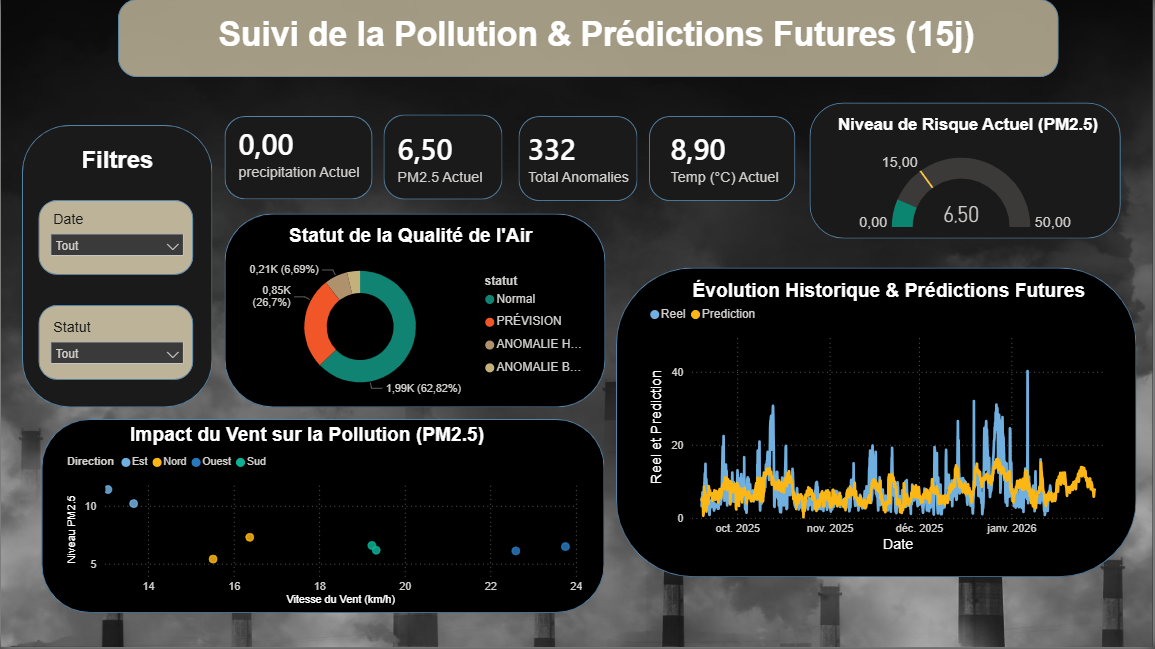

The dashboard page shown, as its layout file describes it:
{"tool":"powerbi","page":{"name":"Page 1","canvas":[1280,720],"ordinal":0},"visuals":[{"type":"image","box":[0,0,1279.4,720],"z":0},{"type":"shape","box":[130.4,0,1045,86.9],"z":1000},{"type":"shape","box":[897.6,115.3,345.8,151.2],"z":2000},{"type":"shape","box":[22.7,139.8,211.7,313.7],"z":3000},{"type":"shape","box":[41.6,223,172,83.2],"z":4000},{"type":"shape","box":[574.5,130.4,132.3,94.5],"z":5000},{"type":"shape","box":[720,130.4,162.5,94.5],"z":6000},{"type":"shape","box":[425.2,128.5,132.3,94.5],"z":7000},{"type":"textbox","box":[206.7,11.7,910,86.7],"z":8000},{"type":"cardVisual","fields":{"Data":["Sum(v_gold_pollution.y)"]},"box":[412,115.3,185.2,120.9],"z":9000},{"type":"cardVisual","fields":{"Data":["CountNonNull(v_gold_pollution.statut)"]},"box":[557.5,115.3,185.2,120.9],"z":10000},{"type":"cardVisual","fields":{"Data":["Sum(v_gold_pollution.temperature)"]},"box":[715,118.3,183.3,115],"z":11000},{"type":"shape","box":[684.1,298.6,578.3,343.9],"z":12000},{"type":"lineChart","fields":{"Y":["Sum(v_gold_pollution.y)","Sum(v_gold_pollution.yhat)"],"Category":["v_gold_pollution.ds"]},"box":[714.3,330.7,532.9,289.1],"z":13000},{"type":"slicer","fields":{"Values":["v_gold_pollution.ds.Variation.Hiérarchie de dates.Année","v_gold_pollution.ds.Variation.Hiérarchie de dates.Mois","v_gold_pollution.ds.Variation.Hiérarchie de dates.Jour"]},"box":[45.4,230.6,168.2,69.9],"z":14000},{"type":"textbox","box":[35.9,158.7,185.2,64.3],"z":15000},{"type":"shape","box":[45.4,466.8,625.5,215.4],"z":16000},{"type":"gauge","fields":{"Y":["Sum(v_gold_pollution.y)"]},"box":[943,156.9,255.1,109.6],"z":17000},{"type":"textbox","box":[925,123.3,336.7,33.3],"z":18000},{"type":"shape","box":[247.6,238.1,423.3,215.4],"z":19000},{"type":"scatterChart","fields":{"X":["Avg(v_gold_pollution.vent_vitesse)"],"Series":["v_gold_pollution.Direction_Texte"],"Category":["v_gold_pollution.ds.Variation.Hiérarchie de dates.Année","v_gold_pollution.ds.Variation.Hiérarchie de dates.Mois","v_gold_pollution.ds.Variation.Hiérarchie de dates.Jour"],"Y":["Avg(v_gold_pollution.Pollution_Finale)"]},"box":[68,495.1,582.1,183.3],"z":20000},{"type":"shape","box":[41.6,340.2,172,83.2],"z":21000},{"type":"slicer","fields":{"Values":["v_gold_pollution.statut"]},"box":[45.4,349.6,168.2,69.9],"z":22000},{"type":"donutChart","fields":{"Category":["v_gold_pollution.statut"],"Y":["CountNonNull(v_gold_pollution.statut)"]},"box":[255.1,275.9,406.3,173.9],"z":23000},{"type":"shape","box":[247.6,130.4,164.4,92.6],"z":24000},{"type":"cardVisual","fields":{"Data":["Avg(v_gold_pollution.precipitation)"]},"box":[234.3,109.6,232.4,120.9],"z":25000},{"type":"textbox","box":[315.6,245.7,300.5,39.7],"z":26000},{"type":"textbox","box":[138,466.8,515.9,39.7],"z":27000},{"type":"textbox","box":[763.5,306.1,459.2,49.1],"z":28000}]}

Visuals, with their boxes in screenshot pixels (x1, y1, x2, y2), scaled from the page's 1280x720 canvas onto the 1155x649 screenshot:
image: (left=0, top=0, right=1154, bottom=648)
shape: (left=118, top=0, right=1061, bottom=78)
shape: (left=810, top=104, right=1122, bottom=240)
shape: (left=20, top=126, right=212, bottom=409)
shape: (left=38, top=201, right=193, bottom=276)
shape: (left=518, top=118, right=638, bottom=203)
shape: (left=650, top=118, right=796, bottom=203)
shape: (left=384, top=116, right=503, bottom=201)
textbox: (left=187, top=11, right=1008, bottom=89)
cardVisual - Sum(v_gold_pollution.y): (left=372, top=104, right=539, bottom=213)
cardVisual - CountNonNull(v_gold_pollution.statut): (left=503, top=104, right=670, bottom=213)
cardVisual - Sum(v_gold_pollution.temperature): (left=645, top=107, right=811, bottom=210)
shape: (left=617, top=269, right=1139, bottom=579)
lineChart - Sum(v_gold_pollution.y) x Sum(v_gold_pollution.yhat): (left=645, top=298, right=1125, bottom=559)
slicer - v_gold_pollution.ds.Variation.Hiérarchie de dates.Année x v_gold_pollution.ds.Variation.Hiérarchie de dates.Mois: (left=41, top=208, right=193, bottom=271)
textbox: (left=32, top=143, right=200, bottom=201)
shape: (left=41, top=421, right=605, bottom=615)
gauge - Sum(v_gold_pollution.y): (left=851, top=141, right=1081, bottom=240)
textbox: (left=835, top=111, right=1138, bottom=141)
shape: (left=223, top=215, right=605, bottom=409)
scatterChart - Avg(v_gold_pollution.vent_vitesse) x v_gold_pollution.Direction_Texte: (left=61, top=446, right=587, bottom=612)
shape: (left=38, top=307, right=193, bottom=382)
slicer - v_gold_pollution.statut: (left=41, top=315, right=193, bottom=378)
donutChart - v_gold_pollution.statut x CountNonNull(v_gold_pollution.statut): (left=230, top=249, right=597, bottom=405)
shape: (left=223, top=118, right=372, bottom=201)
cardVisual - Avg(v_gold_pollution.precipitation): (left=211, top=99, right=421, bottom=208)
textbox: (left=285, top=221, right=556, bottom=257)
textbox: (left=125, top=421, right=590, bottom=457)
textbox: (left=689, top=276, right=1103, bottom=320)
